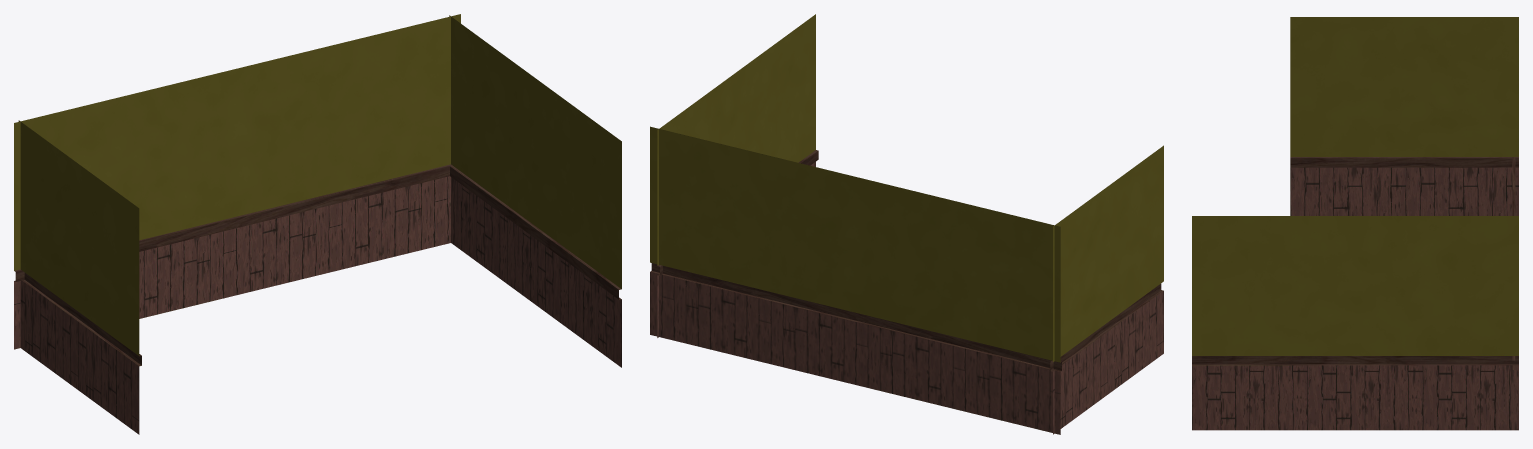
The model's file is PARED.fbx.
The picture shows the model from 3 angles, left to right: view 1: azimuth 30°, elevation 25°; view 2: azimuth 150°, elevation 25°; view 3: azimuth 270°, elevation 25°; orthographic projection. The views are drawn at different scales.
Visible parts, largest first — view 1: Plane.001, Plane.000; view 2: Plane.001, Plane.000; view 3: Plane.001, Plane.000.
Boxes of the visible parts, x1,y1,x2,y2 form: Plane.001: (14,14,621,367); Plane.000: (18,120,141,434); Plane.001: (650,14,1061,434); Plane.000: (1050,145,1163,434); Plane.001: (1192,157,1518,430); Plane.000: (1290,17,1518,215).
Bounding box in the file's own units: 4505 × 2184 × 3016.
Materials: 1 (1 with a texture image).
